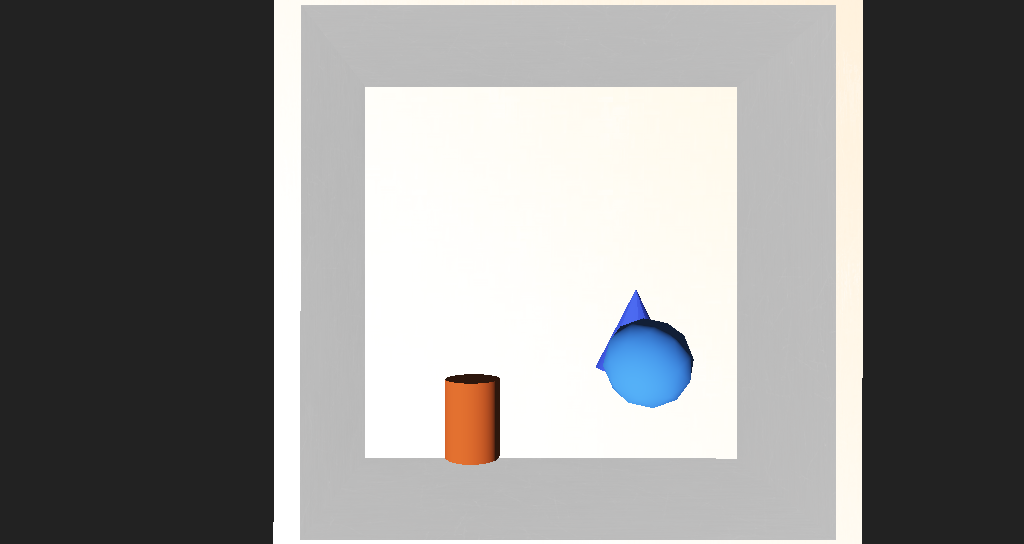cone: (421, 327, 468, 379)
cylinder: (539, 277, 606, 324)
sphere: (542, 293, 616, 346)
